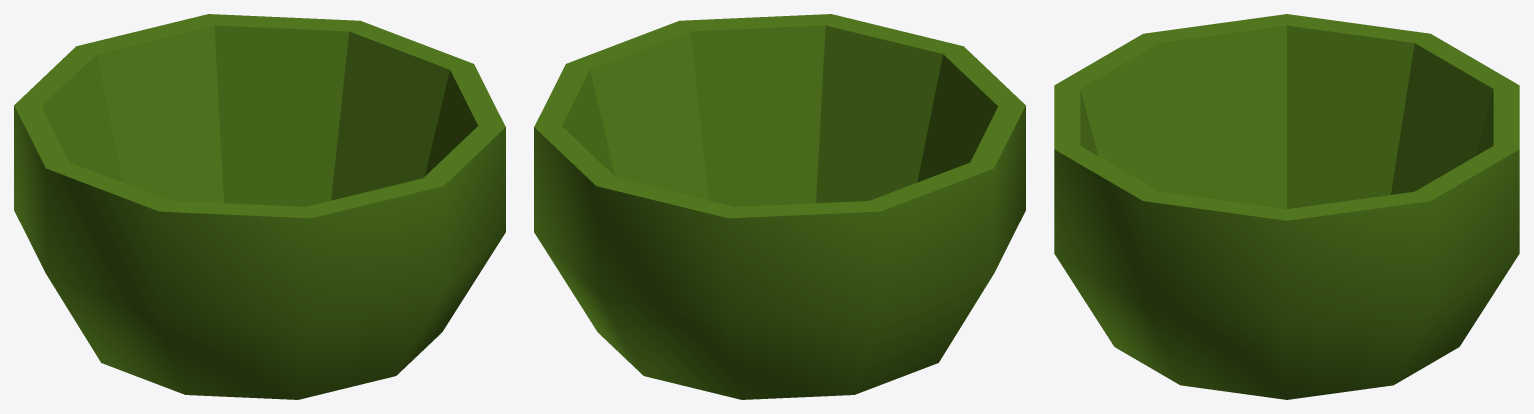
Rendered from Bowl 1.FBX.
3 views of the same model, side by side, from view 1: azimuth 30°, elevation 25°; view 2: azimuth 150°, elevation 25°; view 3: azimuth 270°, elevation 25° (orthographic).
Visible parts, largest first — view 1: Bowl; view 2: Bowl; view 3: Bowl.
Boxes of the visible parts, x1=… form: Bowl: x1=14, y1=14, x2=505, y2=399; Bowl: x1=534, y1=14, x2=1025, y2=399; Bowl: x1=1054, y1=14, x2=1519, y2=399.
Bounding box in the file's own units: 53.25 × 24.72 × 50.64.
